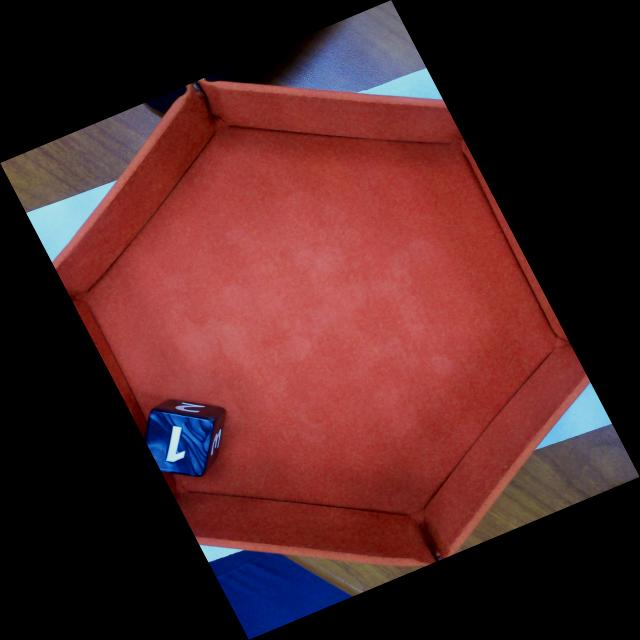dice: (141, 409, 215, 477)
